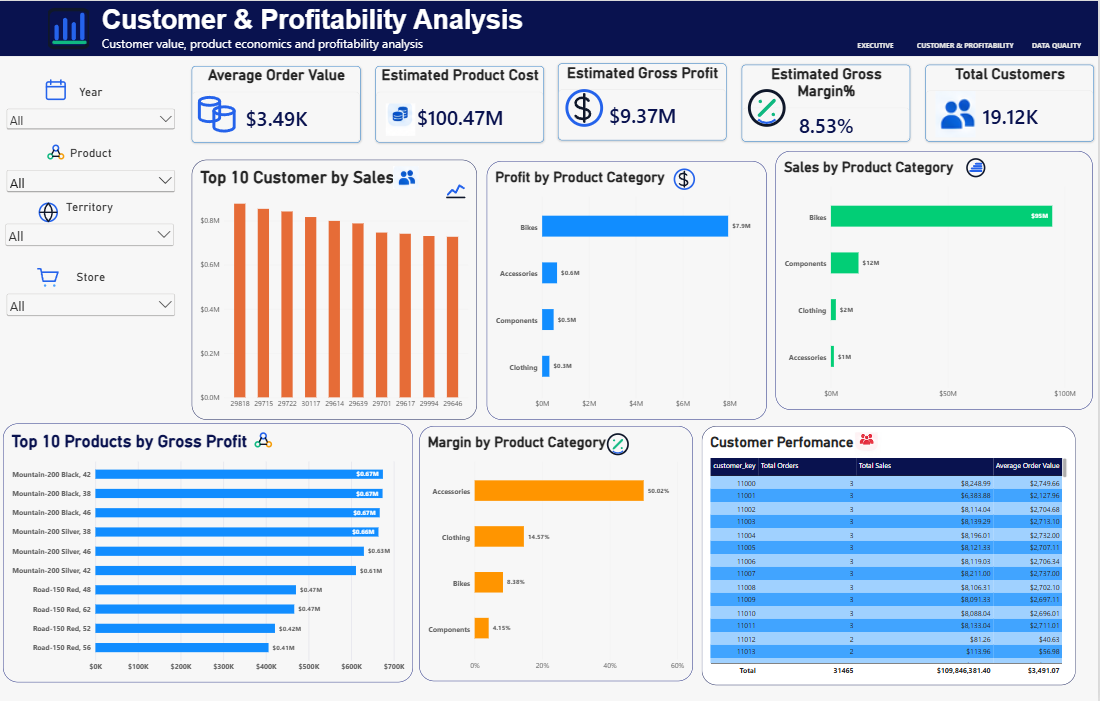

Layout of this report page (visuals, bound fields, positions):
{"tool":"powerbi","page":{"name":"Page 2","canvas":[2200,1400],"ordinal":1},"visuals":[{"type":"shape","box":[0,0,2600,110.1],"z":0},{"type":"cardVisual","title":"Average Order Value","fields":{"Data":["Fact Sales.Average Order Value"]},"box":[388,130,337.4,153.6],"z":1000},{"type":"cardVisual","title":"Estimated Product Cost","fields":{"Data":["Fact Sales.Estimated Product Cost"]},"box":[754.8,129.4,337,153],"z":2000},{"type":"cardVisual","title":"Estimated Gross Profit","fields":{"Data":["Fact Sales.Estimated Gross Profit"]},"box":[1121.2,126,337,153.6],"z":3000},{"type":"clusteredBarChart","title":"Top 10 Products by Gross Profit","fields":{"Category":["Dim Product.product_name"],"Y":["Fact Sales.Estimated Gross Profit"]},"box":[10,845,820,517.5],"z":4000},{"type":"textbox","box":[207.1,7.4,1200.8,120.8],"z":5000},{"type":"barChart","title":"Sales by Product Category","fields":{"Category":["Dim Product.category_name"],"Y":["Fact Sales.Total Sales"]},"box":[1556,299.6,634.6,517.7],"z":6000},{"type":"cardVisual","title":"Estimated Gross Margin%","fields":{"Data":["Fact Sales.Estimated Gross Margin %"]},"box":[1487.6,127.1,337,153.6],"z":7000},{"type":"cardVisual","title":"Total Customers","fields":{"Data":["Fact Sales.Total Customers"]},"box":[1854,128.3,337,153.6],"z":8000},{"type":"clusteredBarChart","title":"Profit by Product Category","fields":{"Category":["Dim Product.category_name"],"Y":["Fact Sales.Estimated Gross Profit"]},"box":[977.5,320,560,517.5],"z":9000},{"type":"clusteredBarChart","title":"Margin by Product Category","fields":{"Category":["Dim Product.category_name"],"Y":["Fact Sales.Estimated Gross Margin %"]},"box":[842.5,850,547.5,510],"z":10000},{"type":"slicer","title":"Year","fields":{"Values":["Dim Date.year"]},"box":[12.6,168.7,345.9,150.3],"z":11000},{"type":"slicer","title":"Product","fields":{"Values":["Dim Product.category_name"]},"box":[12.2,289.6,346.7,106.7],"z":12000},{"type":"slicer","title":"Territory","fields":{"Values":["Dim Territory.territory_name"]},"box":[10.1,397,346.7,123.3],"z":13000},{"type":"clusteredColumnChart","title":"Top 10 Customer by Sales","fields":{"Category":["Dim Customer.Customer ID Label"],"Y":["Fact Sales.Total Sales"]},"box":[387.5,317.5,570,520],"z":14000},{"type":"image","box":[100,0,82.5,110],"z":15000},{"type":"image","box":[1337.5,330,70,52.5],"z":16000},{"type":"image","box":[767.5,205.8,75,65],"z":17000},{"type":"image","box":[1497.7,168.5,80,92.5],"z":18000},{"type":"image","box":[1873.8,178.8,80,92.5],"z":19000},{"type":"image","box":[888.9,343.3,51.4,71.4],"z":20000},{"type":"image","box":[791.1,317.8,51.4,71.4],"z":21000},{"type":"image","box":[1930,297.5,51.4,71.4],"z":22000},{"type":"image","box":[505,845,51.4,71.4],"z":23000},{"type":"image","box":[90.6,153.6,51.2,50],"z":24000},{"type":"image","box":[75.5,397.8,51.2,50],"z":25000},{"type":"image","box":[90,280,51.2,50],"z":26000},{"type":"slicer","title":"Store","fields":{"Values":["Dim Store.store_name"]},"box":[12.5,537.5,346.7,123.3],"z":27000},{"type":"tableEx","title":"Customer Perfomance","fields":{"Values":["Dim Customer.customer_key","Fact Sales.Total Orders","Fact Sales.Total Sales","Fact Sales.Average Order Value"]},"box":[1407.4,851,747.8,518.7],"z":28000},{"type":"image","box":[75,528.3,51,50.8],"z":29000},{"type":"image","box":[1133.3,168.3,80,92.5],"z":30000},{"type":"image","box":[396.7,178.3,80,92.5],"z":31000},{"type":"image","box":[1212.9,862.9,54.3,48.6],"z":32000},{"type":"image","box":[1712.9,862.9,54.3,48.6],"z":33000},{"type":"actionButton","title":"Analyze","box":[1700.9,64.5,110,45.5],"z":34000},{"type":"actionButton","title":"Analyze","box":[1825.5,64.5,219.1,45.5],"z":35000},{"type":"actionButton","title":"Analyze","box":[2035.5,65.5,164.5,45.5],"z":36000}]}

Visuals, with their boxes in screenshot pixels (x1, y1, x2, y2), scaled from the page's 2200x1400 canvas onto the 1100x701 screenshot:
shape: 0:0:1099:55
"Average Order Value" cardVisual: 194:65:363:142
"Estimated Product Cost" cardVisual: 377:65:546:141
"Estimated Gross Profit" cardVisual: 561:63:729:140
"Top 10 Products by Gross Profit" clusteredBarChart: 5:423:415:682
textbox: 104:4:704:64
"Sales by Product Category" barChart: 778:150:1095:409
"Estimated Gross Margin%" cardVisual: 744:64:912:141
"Total Customers" cardVisual: 927:64:1096:141
"Profit by Product Category" clusteredBarChart: 489:160:769:419
"Margin by Product Category" clusteredBarChart: 421:426:695:681
"Year" slicer: 6:84:179:160
"Product" slicer: 6:145:179:198
"Territory" slicer: 5:199:178:261
"Top 10 Customer by Sales" clusteredColumnChart: 194:159:479:419
image: 50:0:91:55
image: 669:165:704:192
image: 384:103:421:136
image: 749:84:789:131
image: 937:90:977:136
image: 444:172:470:208
image: 396:159:421:195
image: 965:149:991:185
image: 252:423:278:459
image: 45:77:71:102
image: 38:199:63:224
image: 45:140:71:165
"Store" slicer: 6:269:180:331
"Customer Perfomance" tableEx: 704:426:1078:686
image: 38:265:63:290
image: 567:84:607:131
image: 198:89:238:136
image: 606:432:634:456
image: 856:432:884:456
"Analyze" actionButton: 850:32:905:55
"Analyze" actionButton: 913:32:1022:55
"Analyze" actionButton: 1018:33:1099:56
